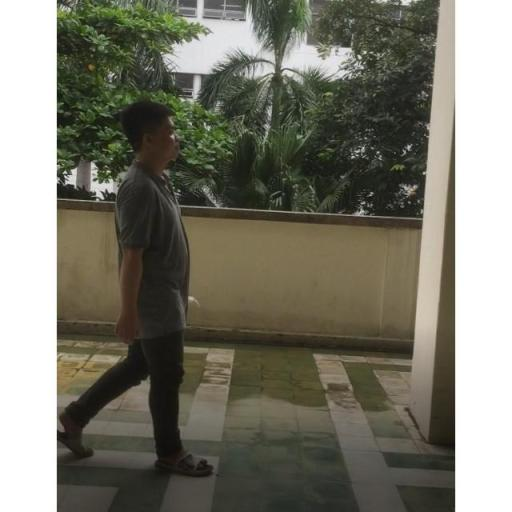Running: (56, 96, 213, 477)
